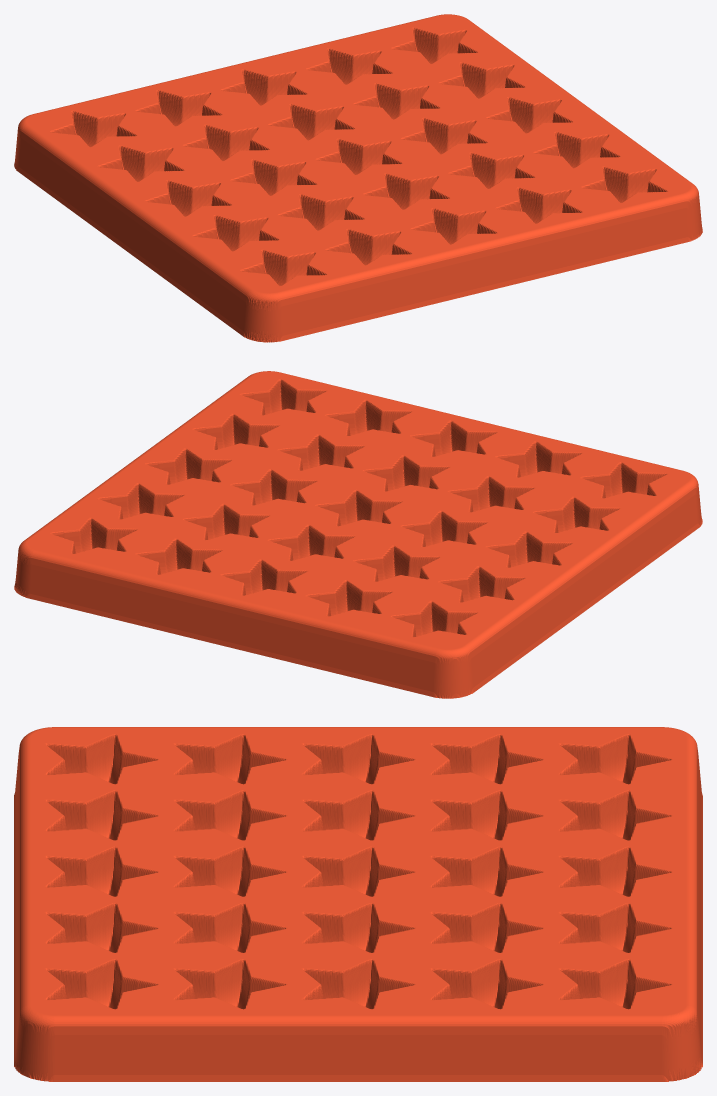
File: mold.glb
3 renders of one model, top to bottom at view 1: azimuth 30°, elevation 25°; view 2: azimuth 150°, elevation 25°; view 3: azimuth 270°, elevation 25°, orthographic. The views are drawn at different scales.
Visible parts, largest first — view 1: geometry_0; view 2: geometry_0; view 3: geometry_0.
Boxes of the visible parts, x1,y1,x2,y2 form: geometry_0: (14, 14, 702, 342); geometry_0: (14, 371, 702, 698); geometry_0: (14, 727, 702, 1081).
Size of the model in its own units: 0.1571 by 0.0145 by 0.1519.
